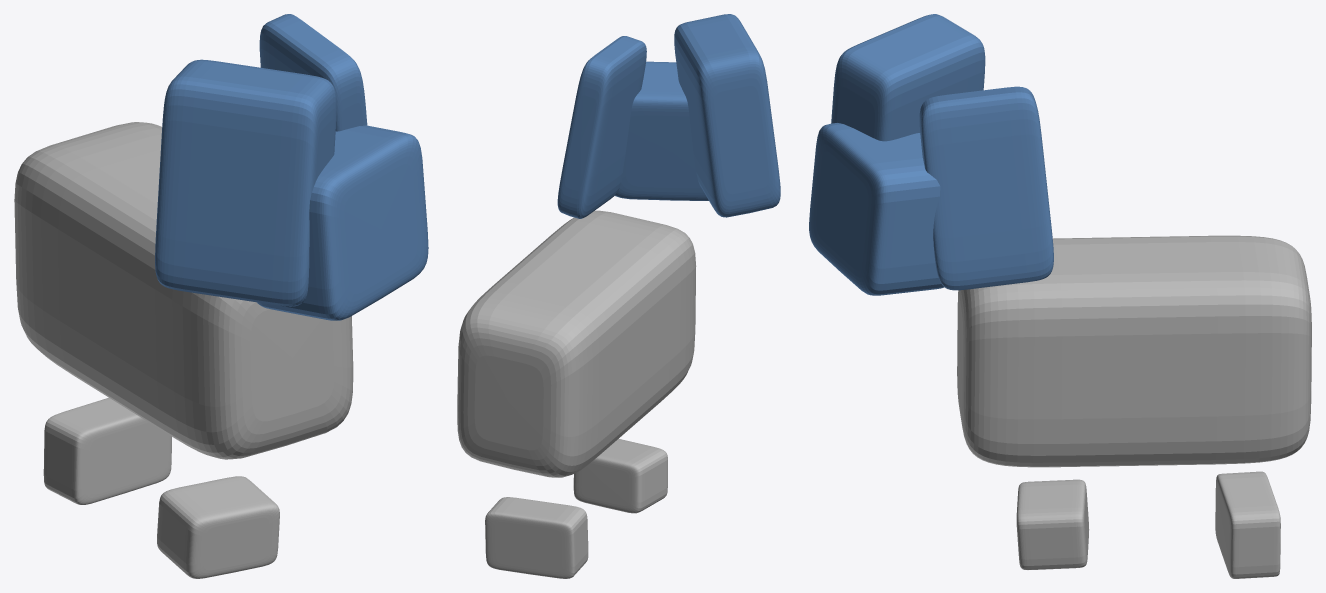
Rendered from edited_abstraction_categorized.glb.
3 views of the same model, side by side, from view 1: azimuth 30°, elevation 25°; view 2: azimuth 150°, elevation 25°; view 3: azimuth 270°, elevation 25° (orthographic). The views are drawn at different scales.
Parts seen in each view (by area): view 1: world; view 2: world; view 3: world.
Part boxes in pixels (left/top/right/bottom): world: left=14, top=14, right=428, bottom=578; world: left=457, top=14, right=780, bottom=578; world: left=809, top=14, right=1311, bottom=578.
Bounding box in the file's own units: 0.3223 × 0.7096 × 0.6465.
